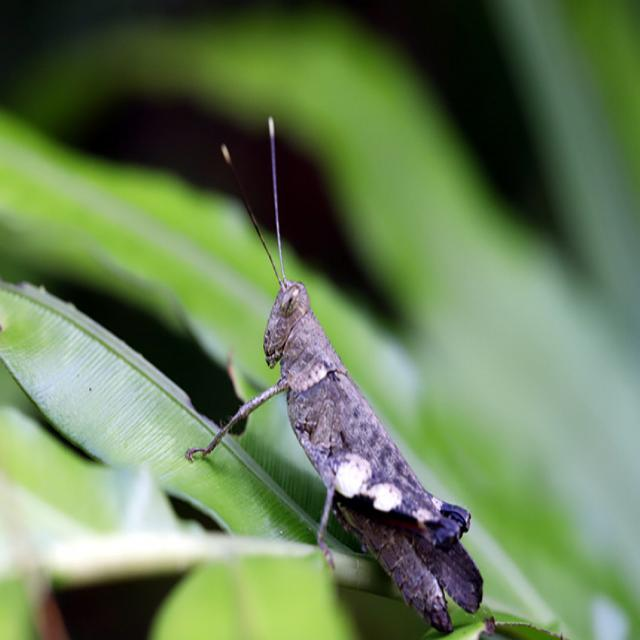ZhaMeng: (187, 111, 500, 629)
